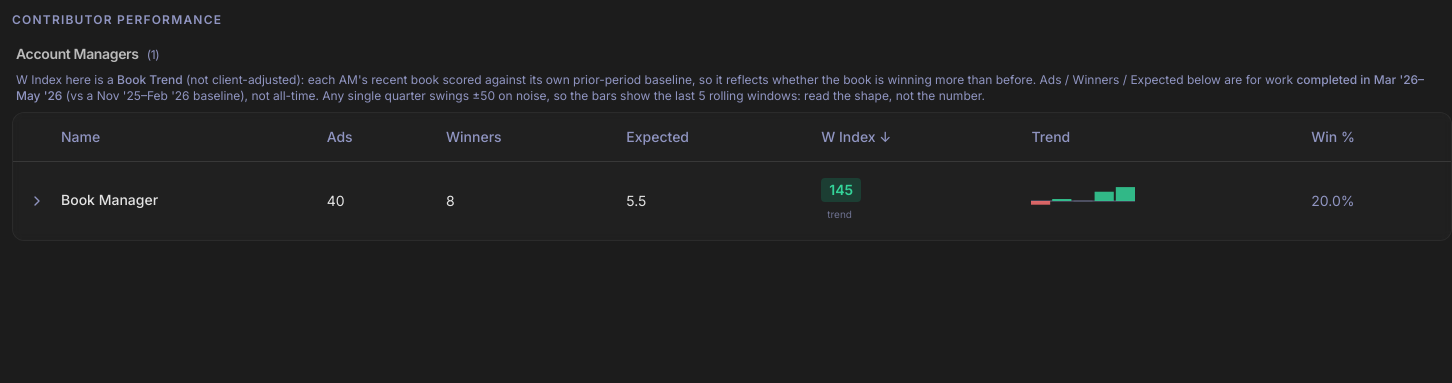
Test: Winners UI renders › expanding an AM row shows score-window client detail, not n/a
Click the text "Book Manager": (110, 199) [13,161,1451,240]
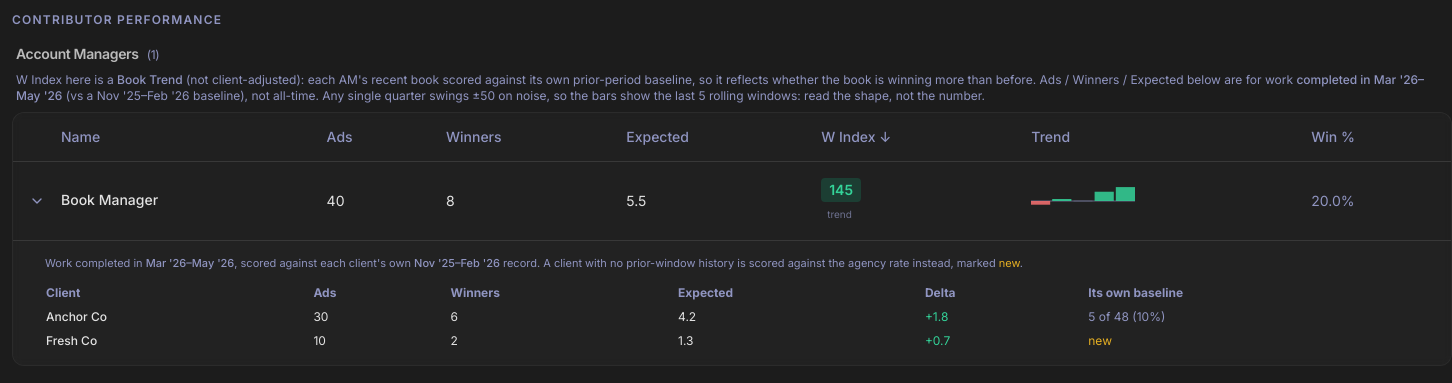
Expected: the text "new" in the row of ", scored against each client's own" is shown, [999,256,1020,270]
Expected: the text "Anchor Co" shows "Mar '26–May '26", [146,256,234,270]
Expected: the text "Anchor Co" shows "Nov '25–Feb '26", [414,256,500,270]
